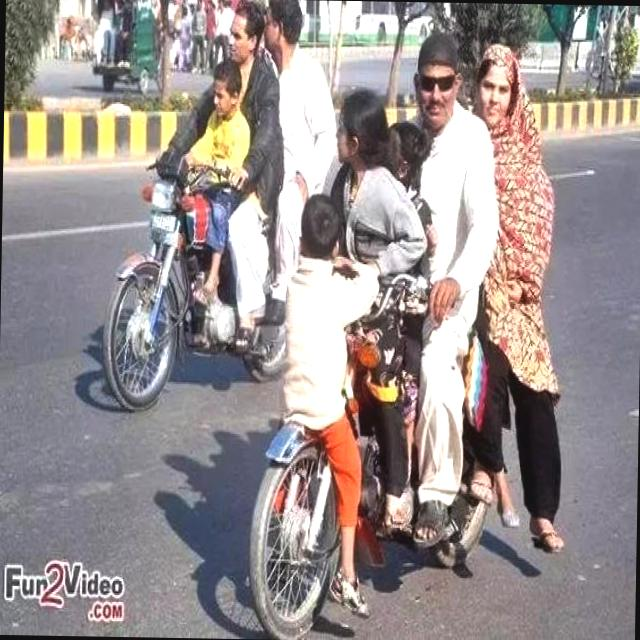motorcycle: (244, 292, 529, 640), (104, 153, 298, 415)
person: (468, 32, 569, 530), (401, 24, 497, 498), (283, 189, 373, 526), (321, 82, 403, 375), (258, 0, 340, 274), (215, 0, 288, 273), (377, 111, 434, 342), (199, 61, 249, 266)
rider_region: (244, 23, 559, 640), (104, 0, 338, 404)
